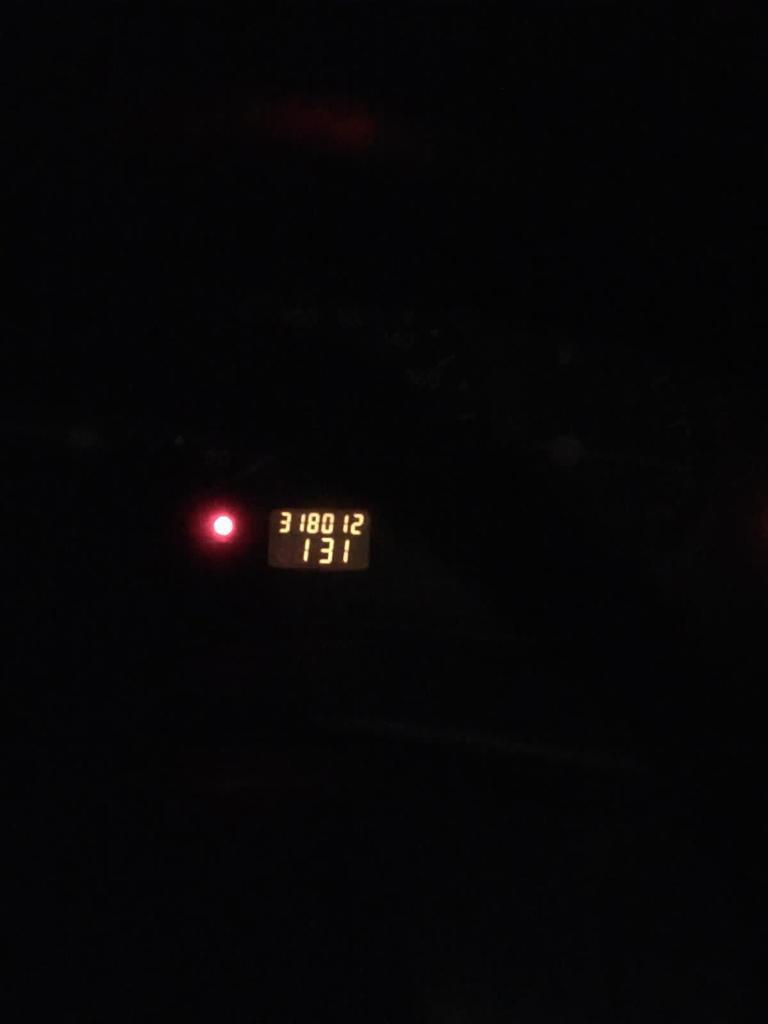0: (321, 512, 335, 535)
1: (342, 538, 351, 564), (302, 536, 310, 563), (341, 513, 349, 534), (298, 512, 306, 532)
2: (351, 511, 364, 535)
3: (319, 536, 334, 565), (279, 510, 291, 533)
8: (306, 510, 319, 534)
odometer: (267, 507, 372, 571)
